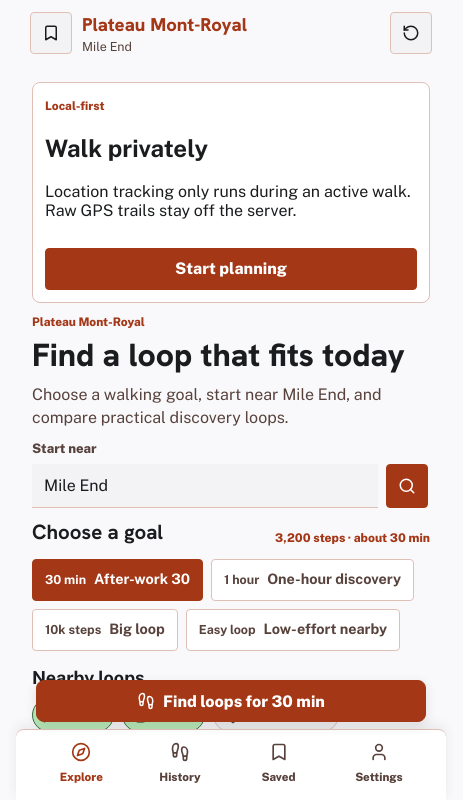
Test case: App › shows saved discoveries and progress without game-like labels
Click the button "Saved".
click(278, 763)  # box [250,739,306,787]
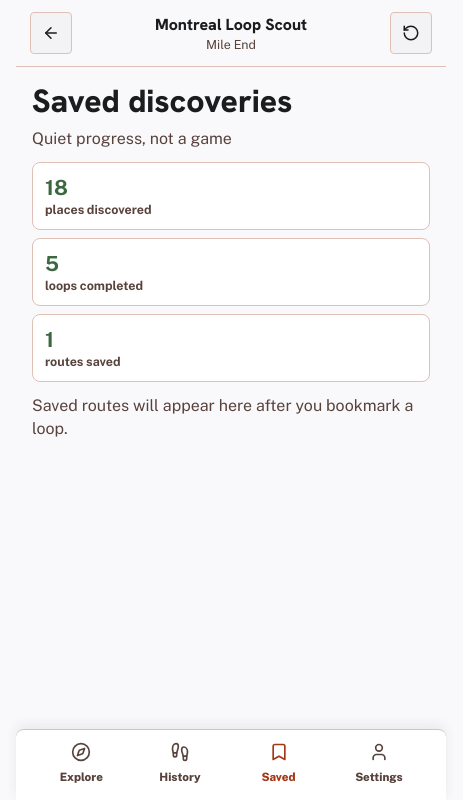
Expected: the text "places discovered" is shown, [45,202,152,217]
Result: the heading "Saved discoveries" is shown at [32,80,292,122]
Result: the text "loops completed" is shown at [45,278,143,293]
